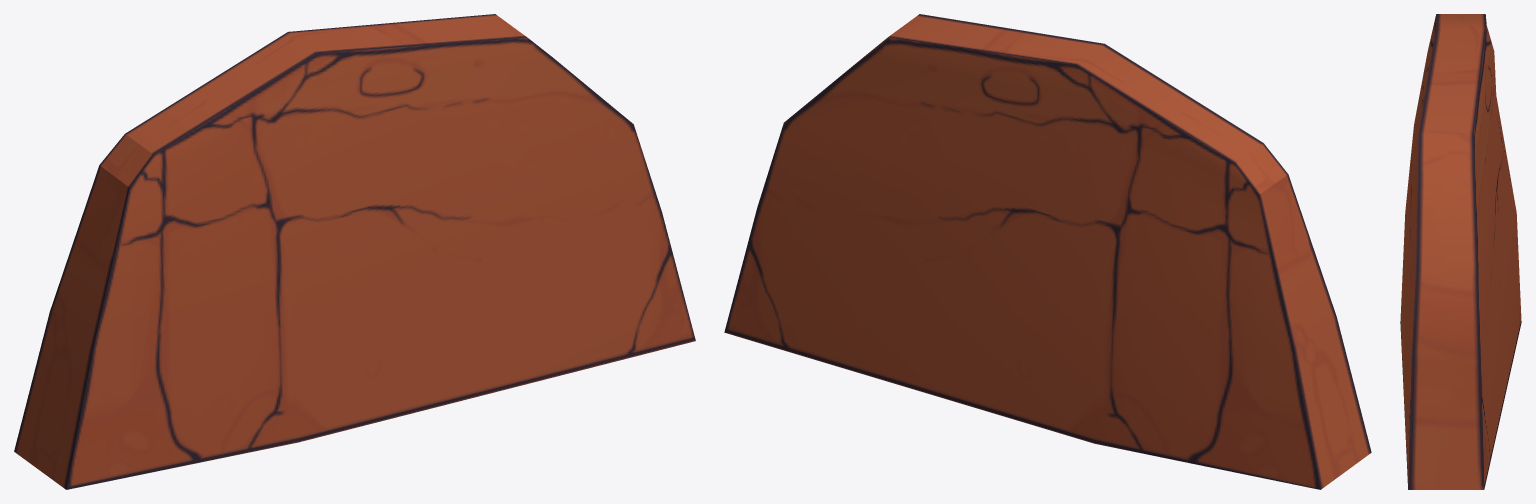
File: SmallWall_2.fbx
3 views of the same model, side by side, from view 1: azimuth 30°, elevation 25°; view 2: azimuth 150°, elevation 25°; view 3: azimuth 270°, elevation 25° (orthographic). The views are drawn at different scales.
Visible parts, largest first — view 1: Wall_3; view 2: Wall_3; view 3: Wall_3.
Boxes of the visible parts, x1,y1,x2,y2 form: Wall_3: (14,14,695,489); Wall_3: (724,14,1371,489); Wall_3: (1400,14,1521,489).
Bounding box in the file's own units: 661 × 130 × 368.
